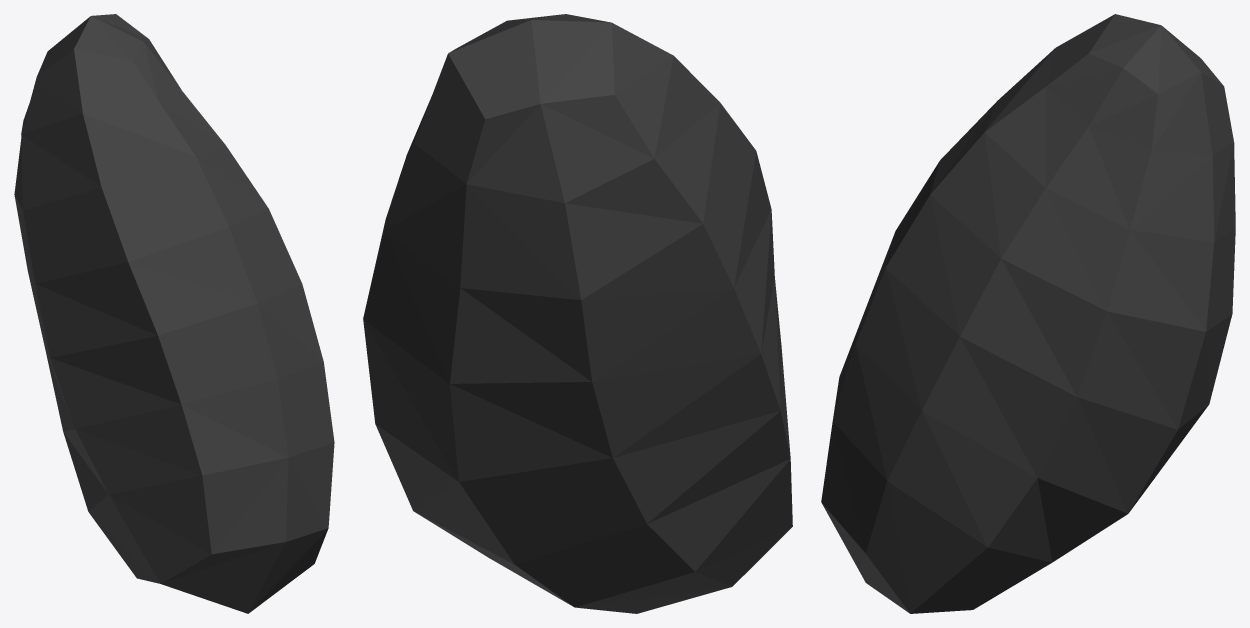
The model's file is RFL_carpal8.glb.
3 renders of one model, left to right at view 1: azimuth 30°, elevation 25°; view 2: azimuth 150°, elevation 25°; view 3: azimuth 270°, elevation 25°, orthographic. The views are drawn at different scales.
Parts seen in each view (by area): view 1: RFL_carpal8; view 2: RFL_carpal8; view 3: RFL_carpal8.
Part boxes in pixels (x1,y1,x2,y2): RFL_carpal8: [14, 14, 334, 613]; RFL_carpal8: [363, 14, 792, 613]; RFL_carpal8: [821, 14, 1235, 613].
Bounding box in the file's own units: 1.81 × 3.52 × 2.42.
1 material, 1 textured.
